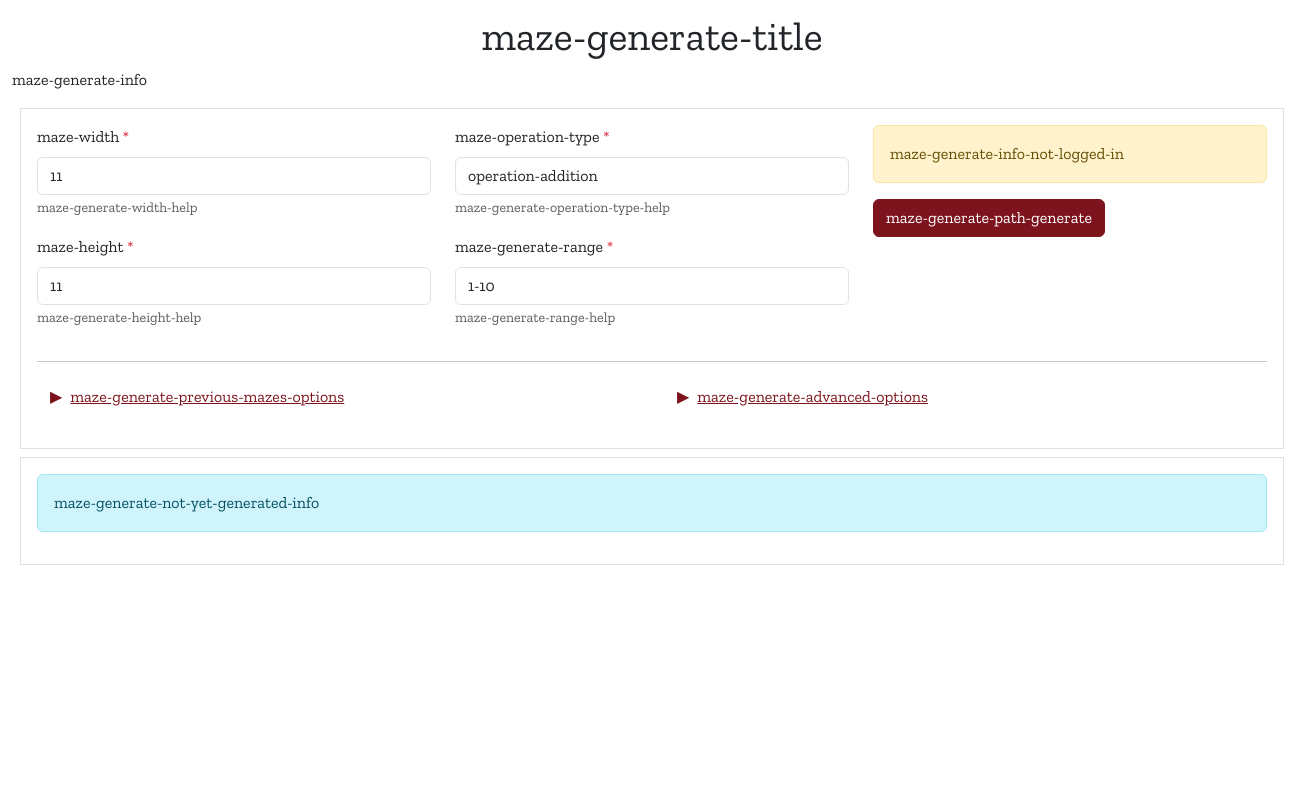
GenerateMaze › renders and submits the form when the form is valid but receives an error
Click the button "maze-generate-path-generate". click: point(989, 218)
box: [873,199,1105,237]
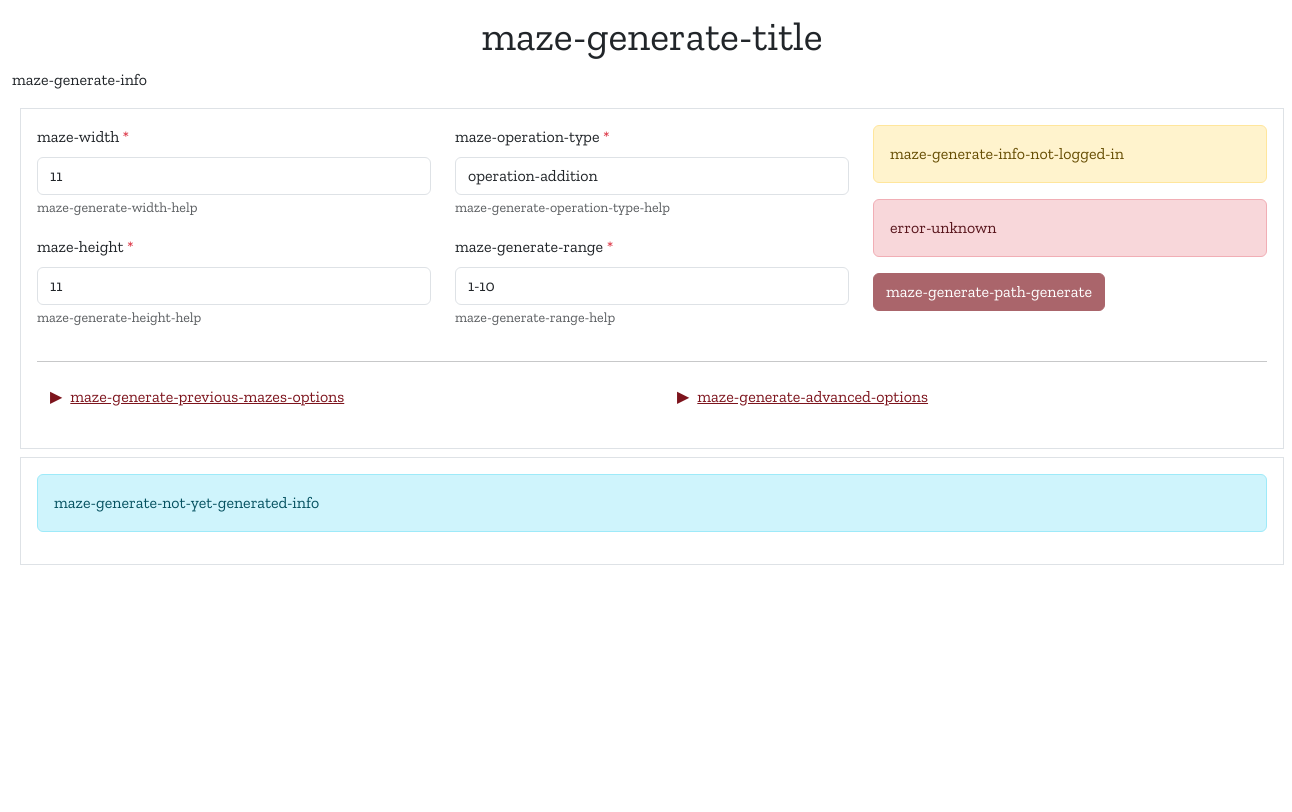
Expected: the text "error-unknown" is shown, [873,199,1267,257]
